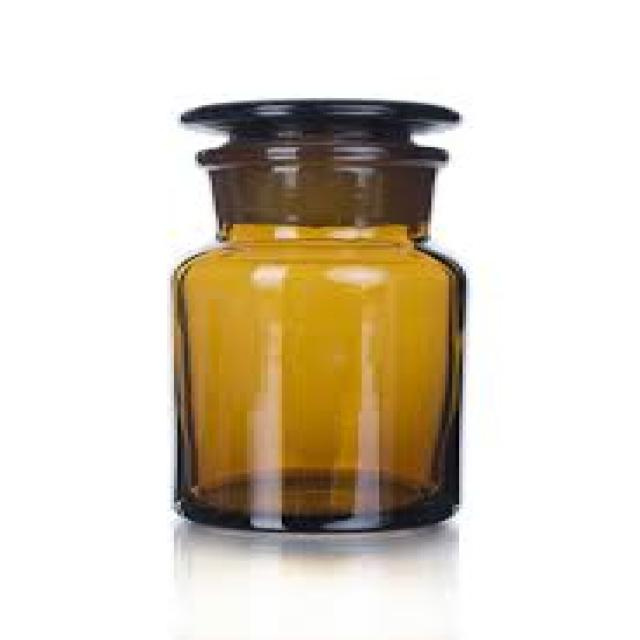glass: (174, 224, 463, 528)
